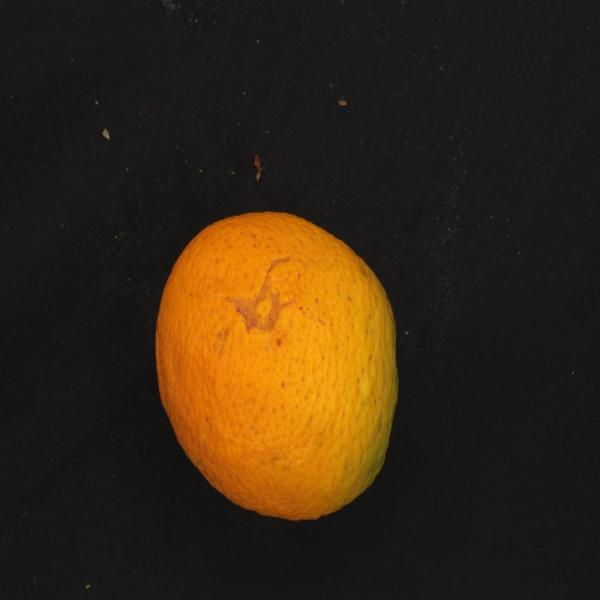Sana: (128, 189, 413, 524)
